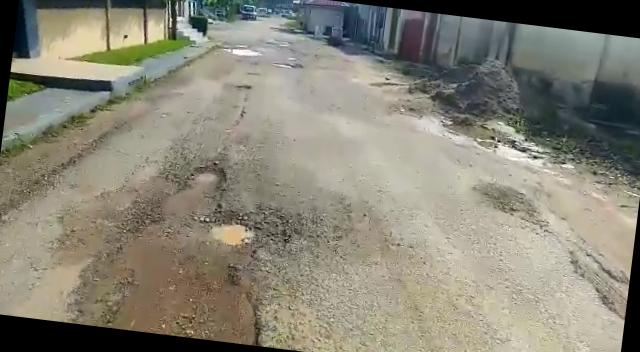pothole: (209, 216, 256, 246), (190, 162, 227, 192), (218, 44, 263, 60)
